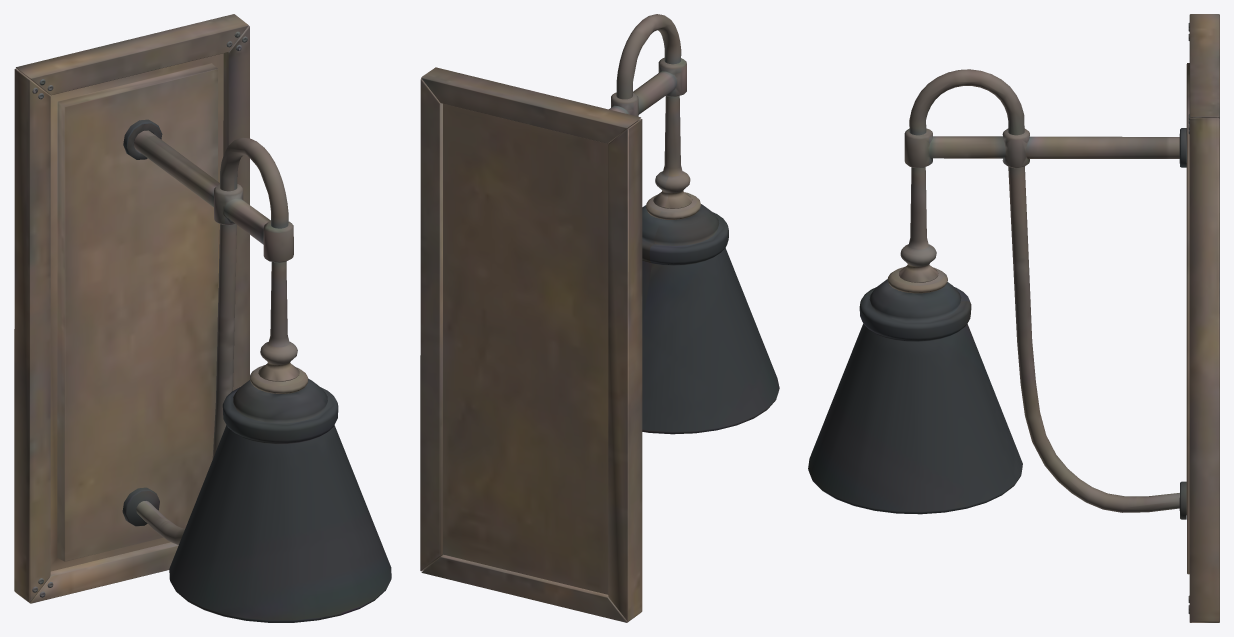
Rendered from industrial_wall_sconce.glb.
The picture shows the model from 3 angles, left to right: view 1: azimuth 30°, elevation 25°; view 2: azimuth 150°, elevation 25°; view 3: azimuth 270°, elevation 25°; orthographic projection. The views are drawn at different scales.
Parts seen in each view (by area): view 1: industrial_wall_sconce; view 2: industrial_wall_sconce; view 3: industrial_wall_sconce.
Boxes of the visible parts, x1,y1,x2,y2 form: industrial_wall_sconce: (14, 14, 391, 622); industrial_wall_sconce: (420, 14, 779, 622); industrial_wall_sconce: (808, 14, 1219, 622).
Size of the model in its own units: 0.1502 by 0.3416 by 0.2516.
2 materials, 2 textured.
